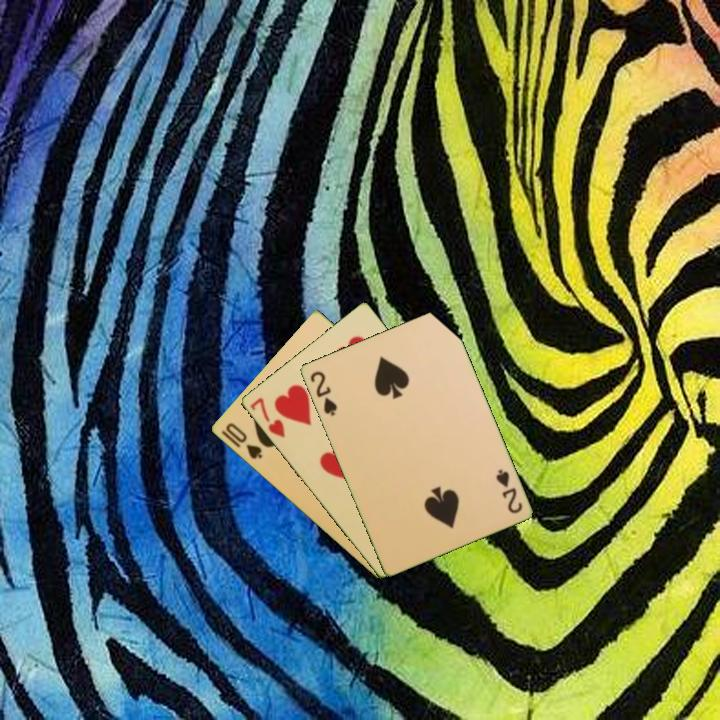10s: (222, 419, 265, 462)
2s: (306, 367, 340, 419), (492, 465, 525, 516)
7h: (246, 394, 288, 440)
